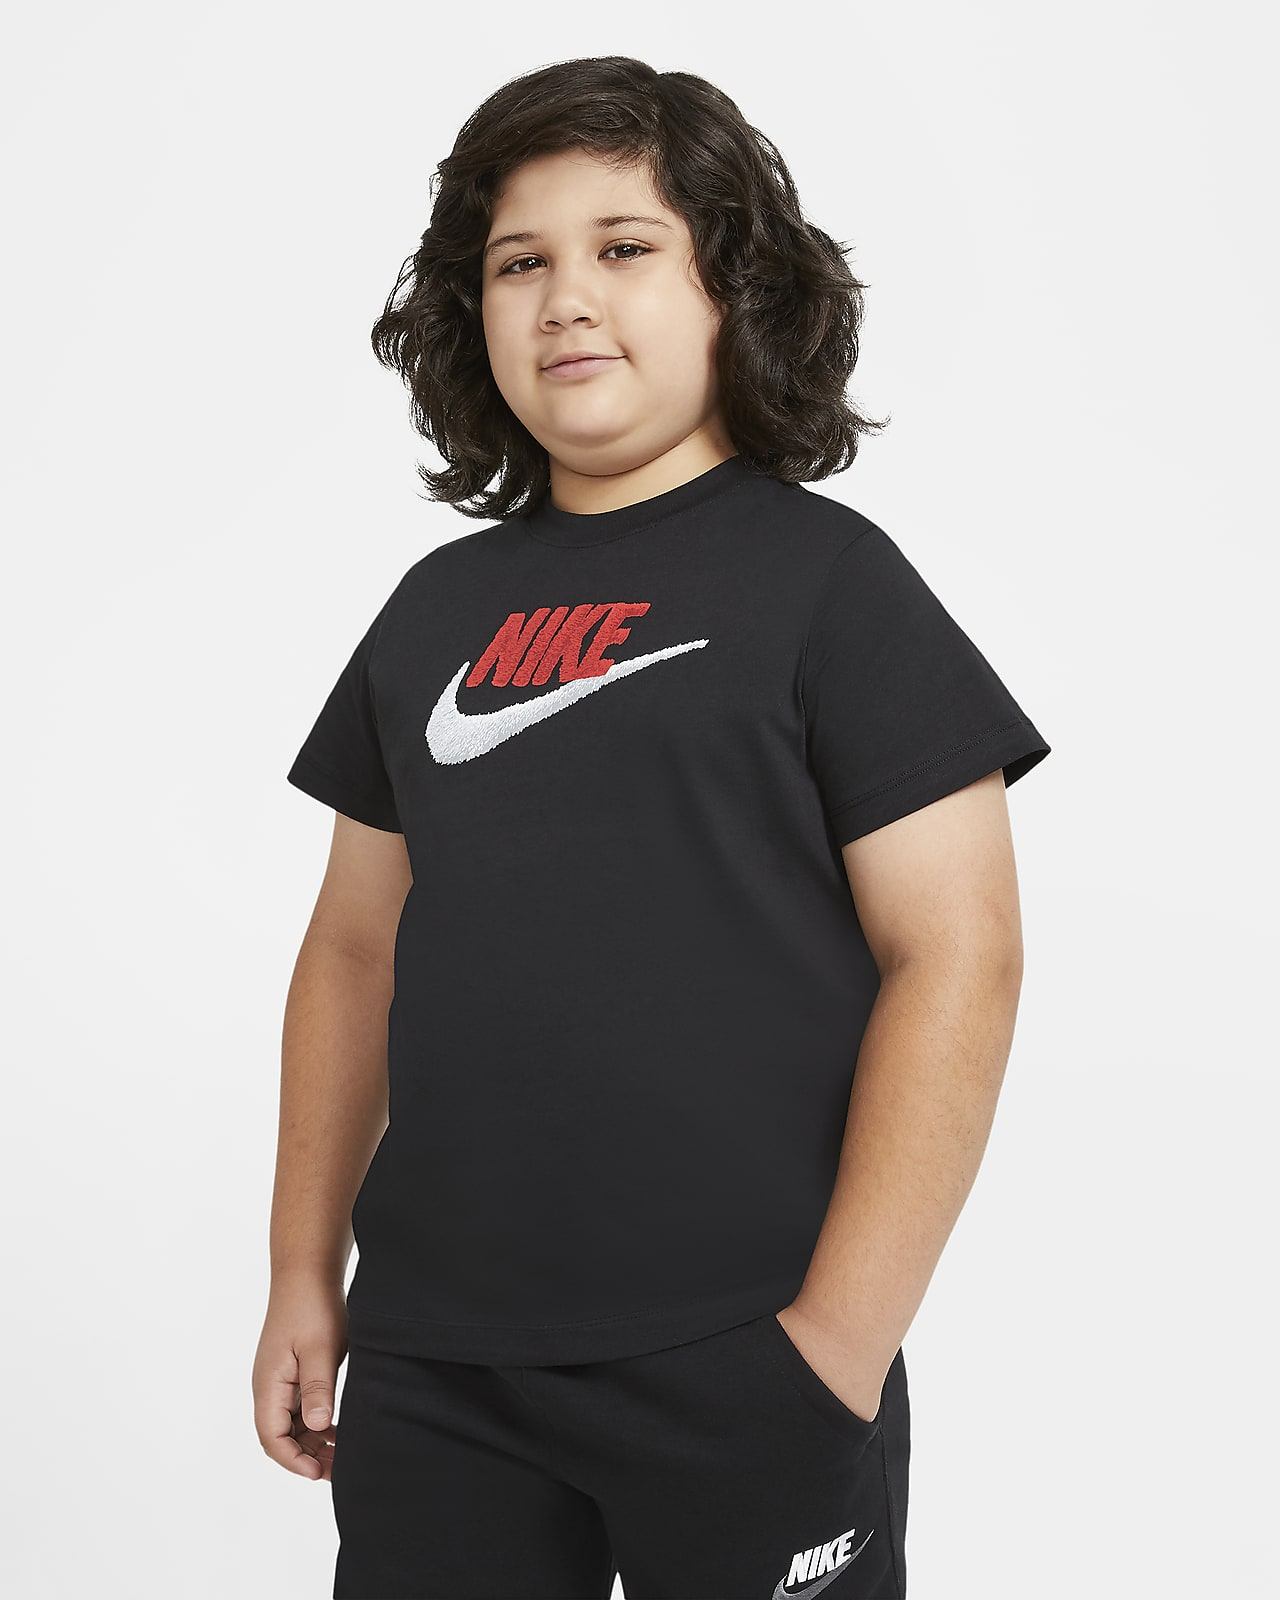BOY: (417, 60, 783, 480)
